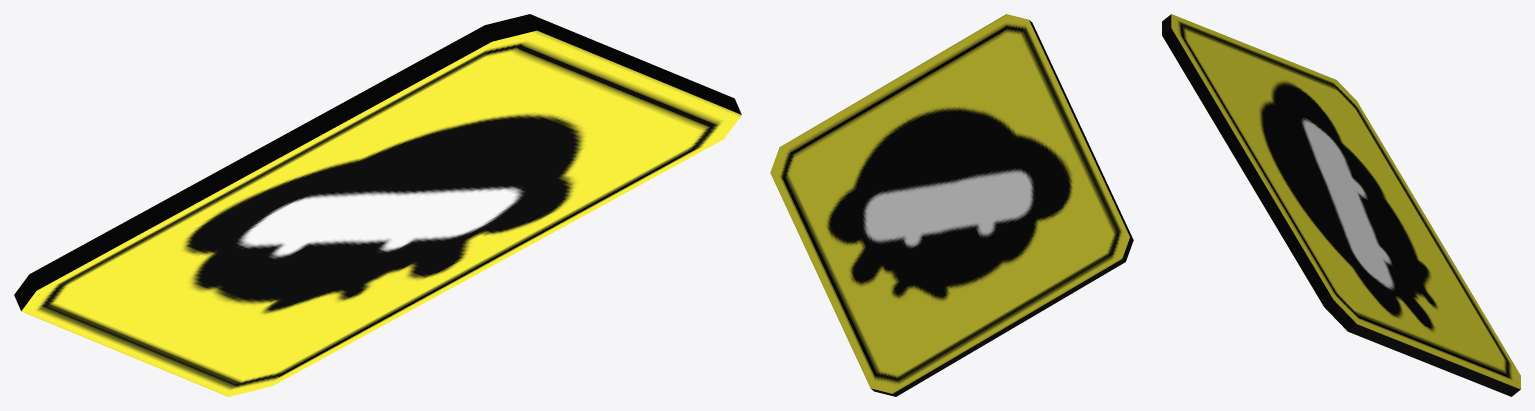
Rendered from tricks.ico.obj.
3 views of the same model, side by side, from view 1: azimuth 30°, elevation 25°; view 2: azimuth 150°, elevation 25°; view 3: azimuth 270°, elevation 25° (orthographic). The views are drawn at different scales.
Size of the model in its own units: 4.75 by 3.64 by 3.22.
1 material, 1 textured.
